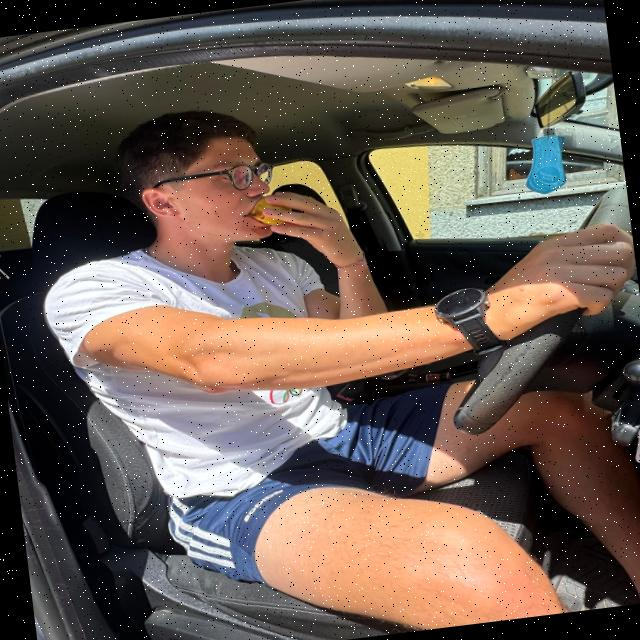Eating: (205, 168, 316, 266)
